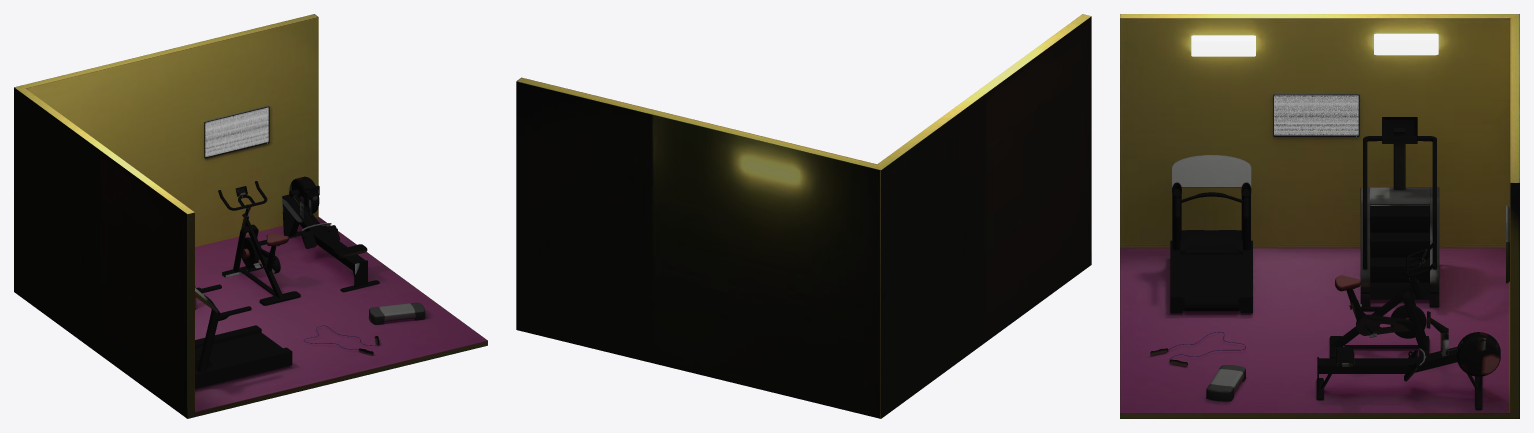
Rendered from gym-cardio.glb.
3 renders of one model, left to right at view 1: azimuth 30°, elevation 25°; view 2: azimuth 150°, elevation 25°; view 3: azimuth 270°, elevation 25°, orthographic. The views are drawn at different scales.
Visible parts, largest first — view 1: gym-cardio, treadmill, rower, spin-bike, tv2, stepper; view 2: gym-cardio; view 3: gym-cardio, stairmaster, treadmill, rower, spin-bike, tv, light.003, stepper, skip-rope.
Boxes of the visible parts, x1,y1,x2,y2 form: gym-cardio: (14,14,487,418); treadmill: (195,284,292,388); rower: (259,176,379,292); spin-bike: (218,181,300,305); tv2: (204,106,269,158); stepper: (369,302,425,324); gym-cardio: (516,14,1091,418); gym-cardio: (1120,14,1519,418); stairmaster: (1360,117,1439,307); treadmill: (1170,155,1252,313); rower: (1316,311,1500,410); spin-bike: (1329,242,1434,358); tv: (1273,94,1359,136); light.003: (1191,33,1438,56); stepper: (1206,364,1245,401); skip-rope: (1150,331,1245,366).
Bounding box in the file's own units: 3.07 × 2 × 3.07.
29 materials, 28 textured.
